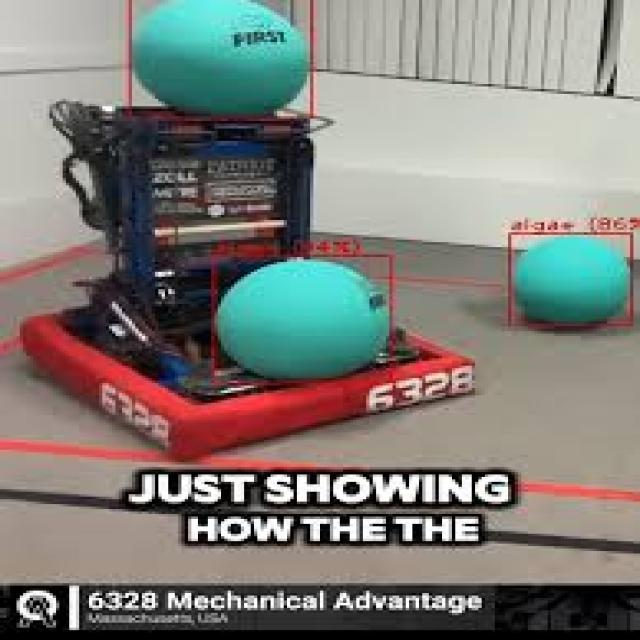algae: (214, 257, 393, 383), (132, 0, 313, 119), (511, 232, 633, 331)
